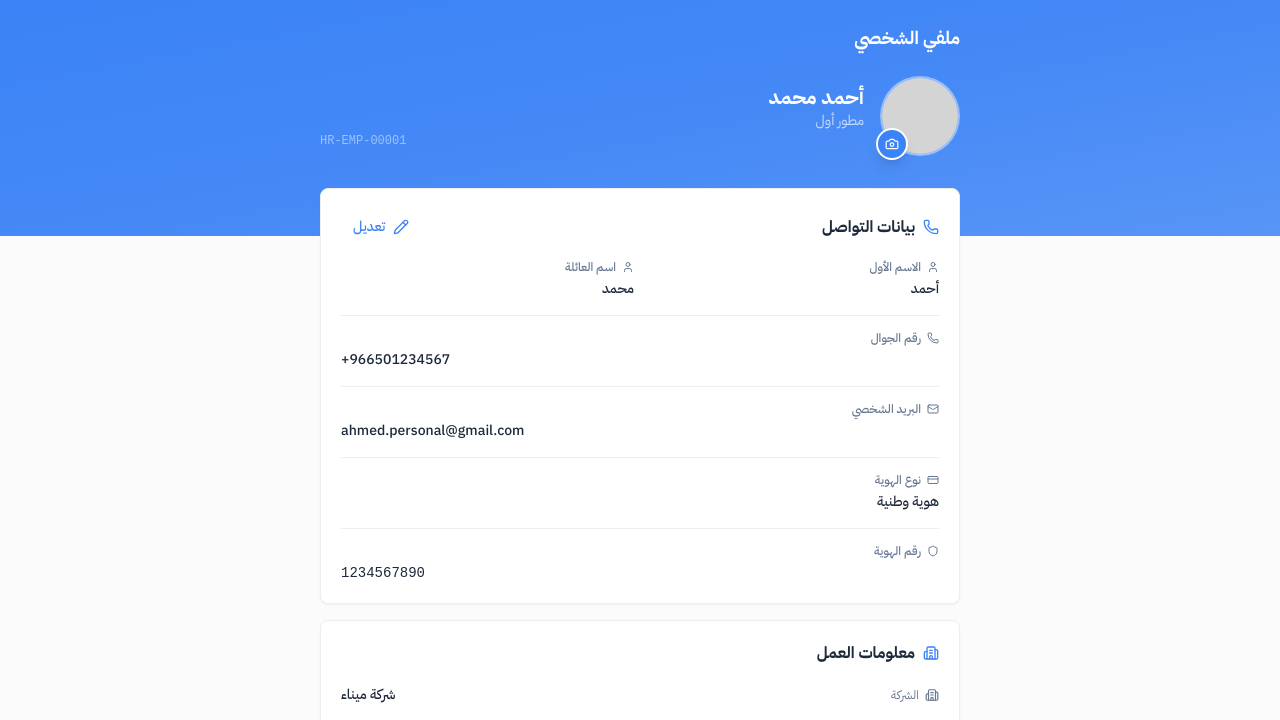
it: SelfServiceProfile › Edit Mode › should enter edit mode when تعديل button is clicked
Expected: the heading "أحمد محمد" is shown, [768,82,864,112]
Click the button "تعديل". click: x=381, y=227
box: [341,209,421,245]
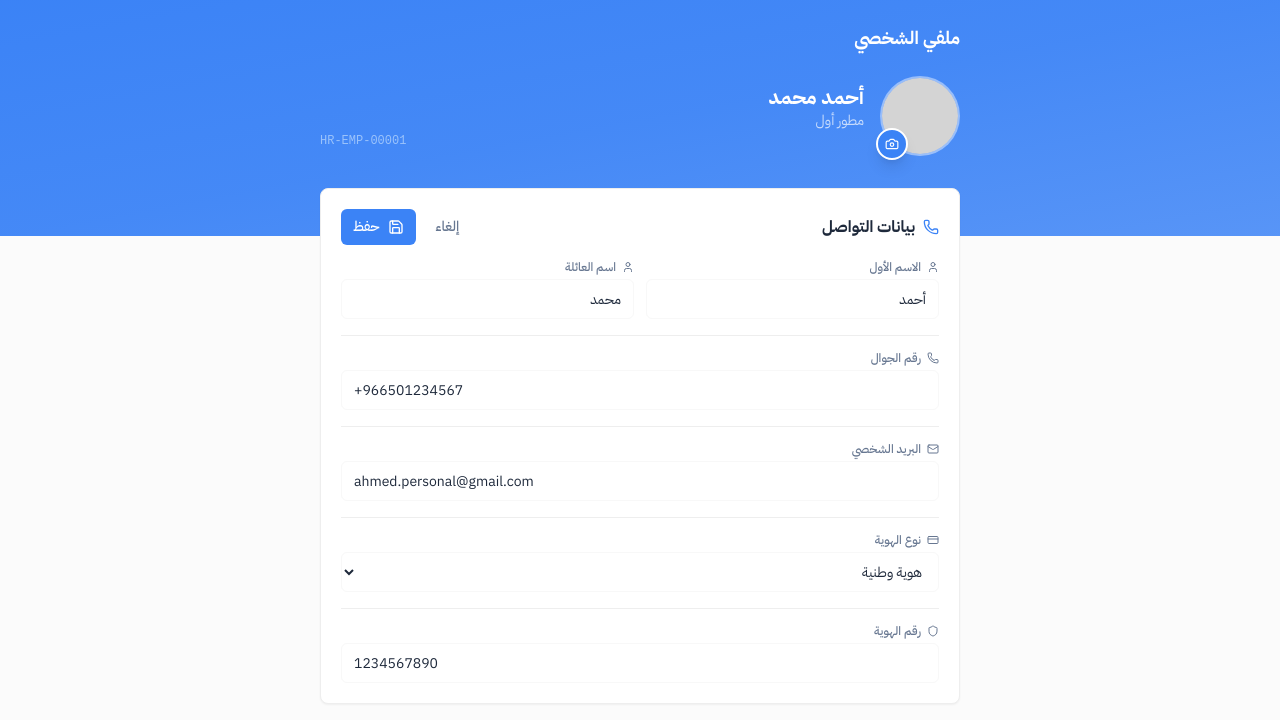
Expected: the button "حفظ" is shown, [341,209,416,245]
Expected: the button "إلغاء" is shown, [424,209,471,245]
